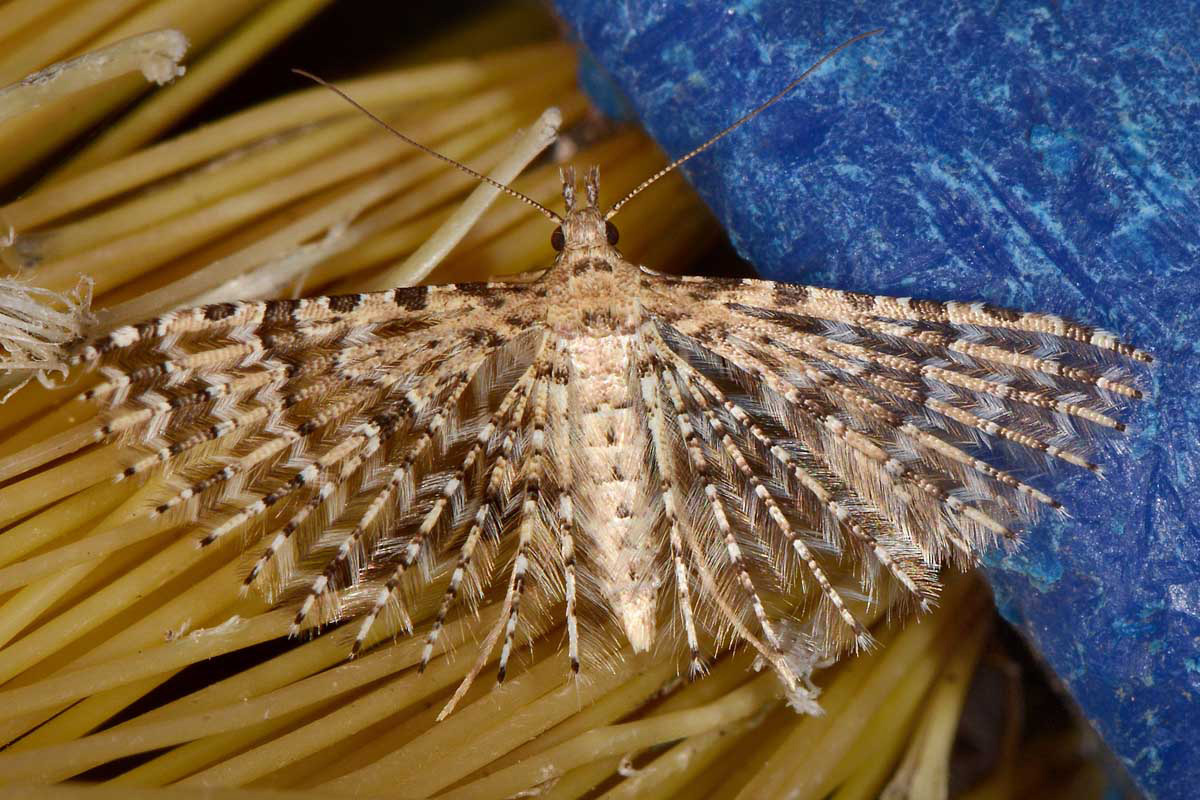Alucitidae: (82, 50, 1182, 720)
moth: (84, 52, 1184, 722)
